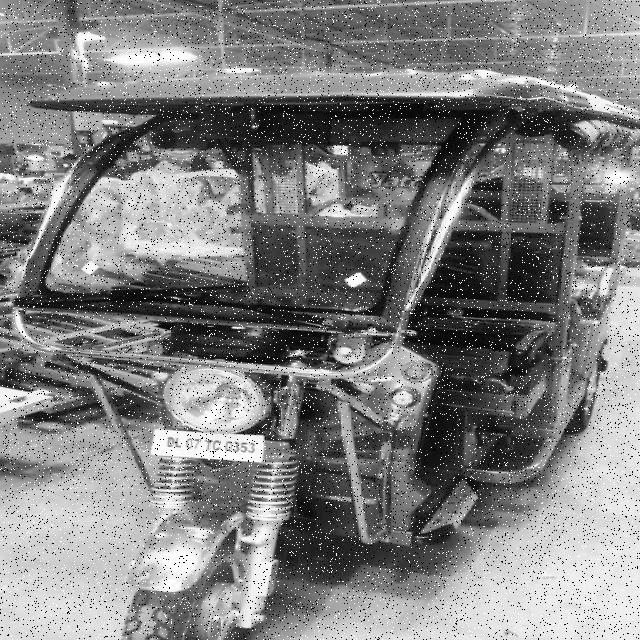Toto: (35, 54, 640, 639)
